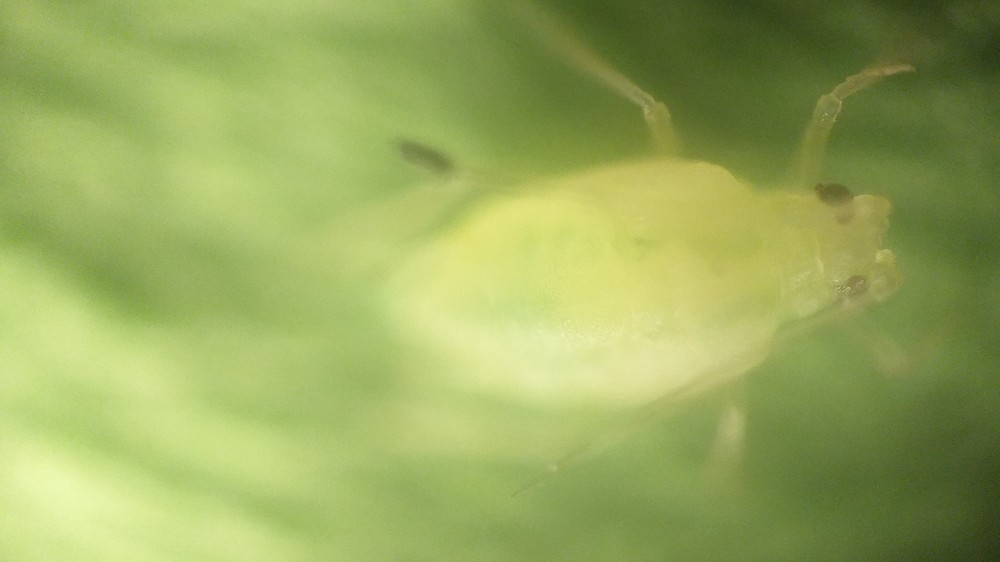Pulgon: (307, 13, 993, 526)
